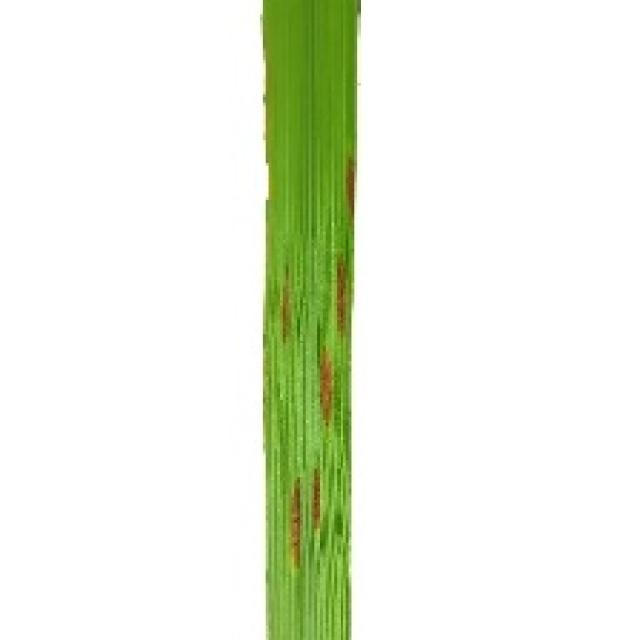Unhealthy: (289, 483, 302, 570), (320, 346, 332, 431), (279, 274, 291, 343), (336, 257, 346, 338), (346, 157, 356, 217), (312, 467, 321, 531)
